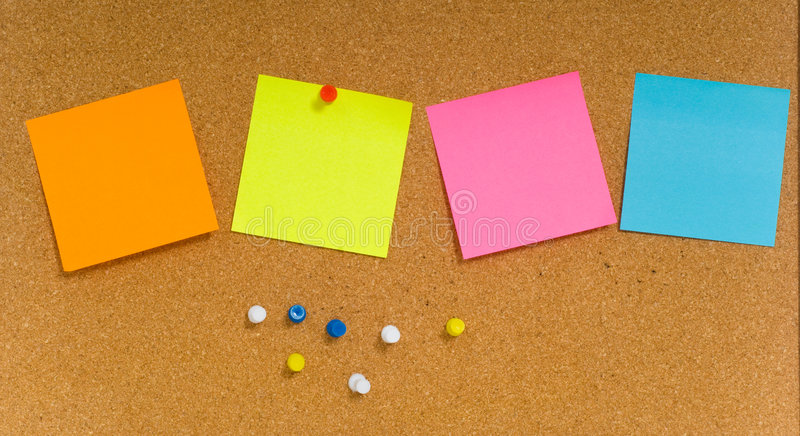blue_sticky_note: (618, 72, 791, 247)
orange_sticky_note: (25, 79, 220, 271)
pink_sticky_note: (423, 72, 618, 260)
yellow_sticky_note: (229, 72, 413, 258)
